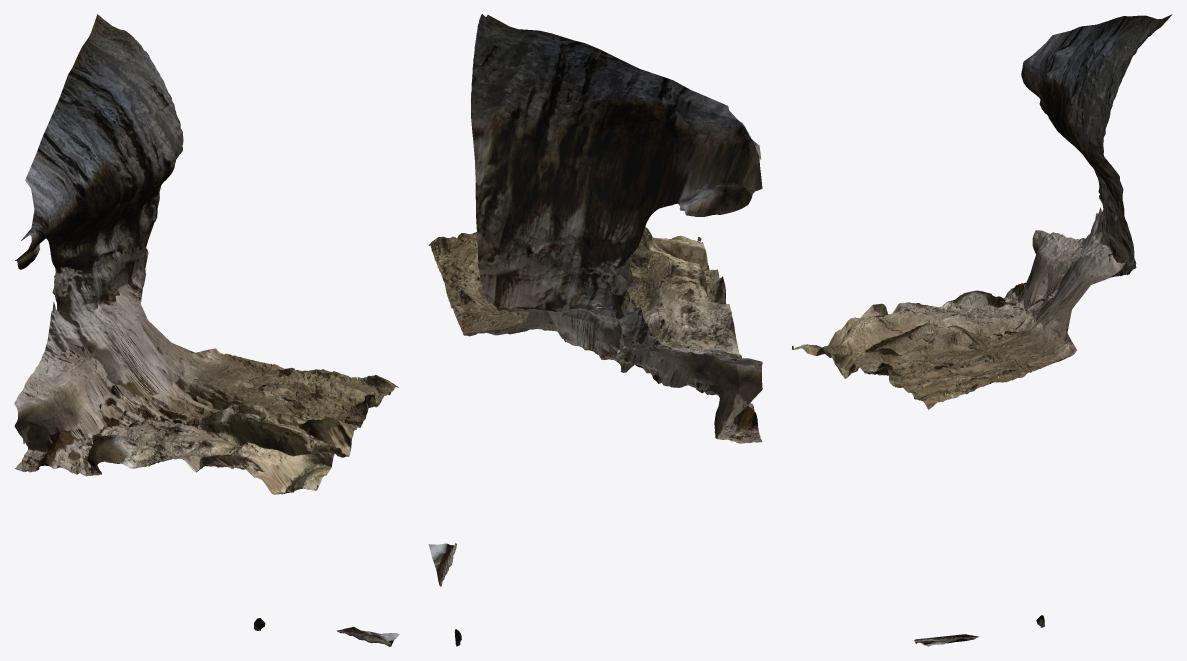
Rendered from tile_1_5.obj.
The picture shows the model from 3 angles, left to right: view 1: azimuth 30°, elevation 25°; view 2: azimuth 150°, elevation 25°; view 3: azimuth 270°, elevation 25°; orthographic projection. The views are drawn at different scales.
Visible parts, largest first — view 1: texture_0; view 2: texture_0; view 3: texture_0.
Part boxes in pixels (bbox=[...]): texture_0: bbox=[14, 14, 399, 646]; texture_0: bbox=[428, 14, 762, 646]; texture_0: bbox=[792, 14, 1172, 646].
Bounding box in the file's own units: 0.4195 × 0.7174 × 0.436.
Materials: 1 (1 with a texture image).
